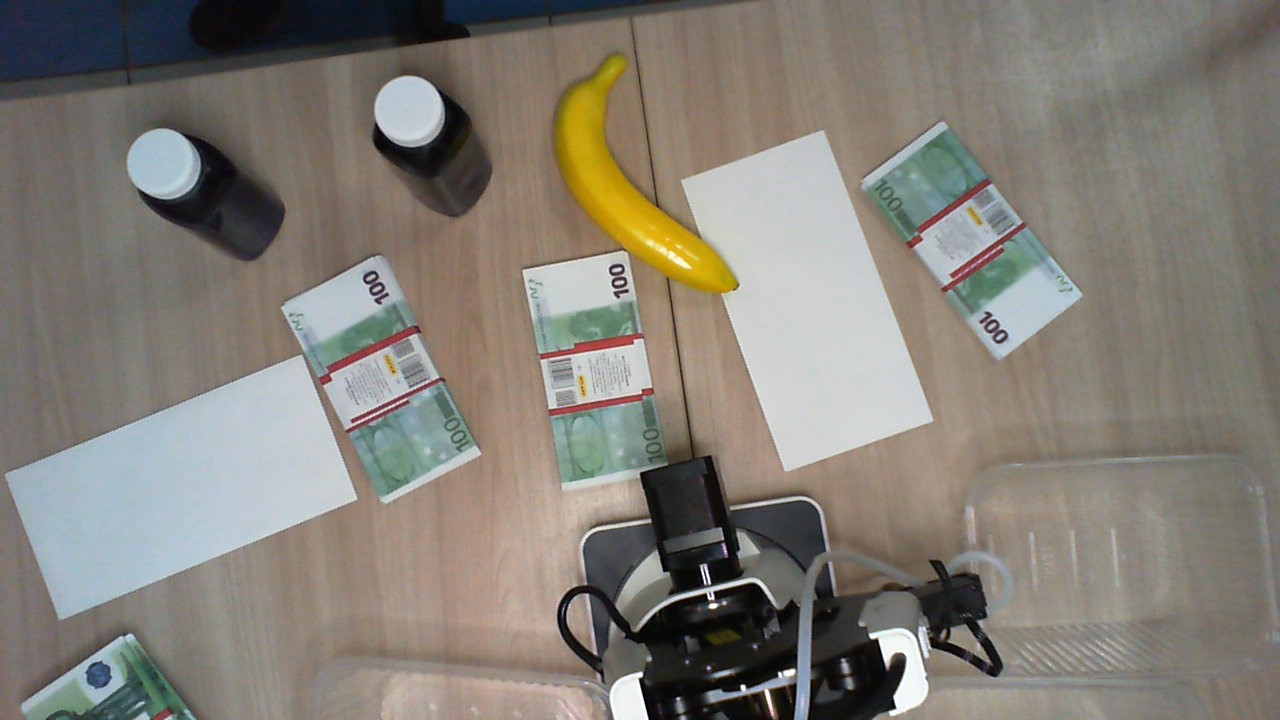banana: (549, 50, 745, 295)
bottle: (366, 71, 463, 170), (121, 126, 226, 217)
convert: (6, 356, 358, 620), (678, 129, 935, 466)
money: (860, 114, 1087, 362), (282, 254, 483, 506), (521, 248, 670, 490), (13, 631, 200, 720)
